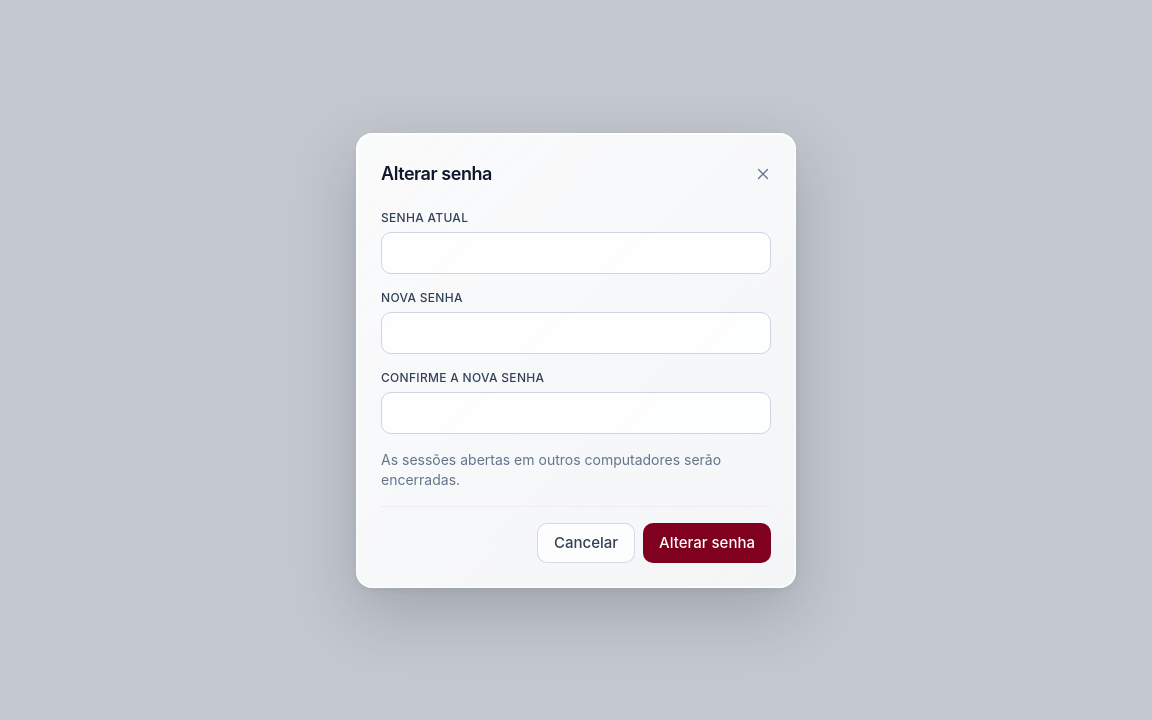
USU-07 — alterar senha logado › não envia com senhas diferentes
Type "senha-atual-1" into the password field labelled "Senha atual".
click(576, 252); type("senha-atual-1")  # box top-left (381, 232), bottom-right (771, 274)
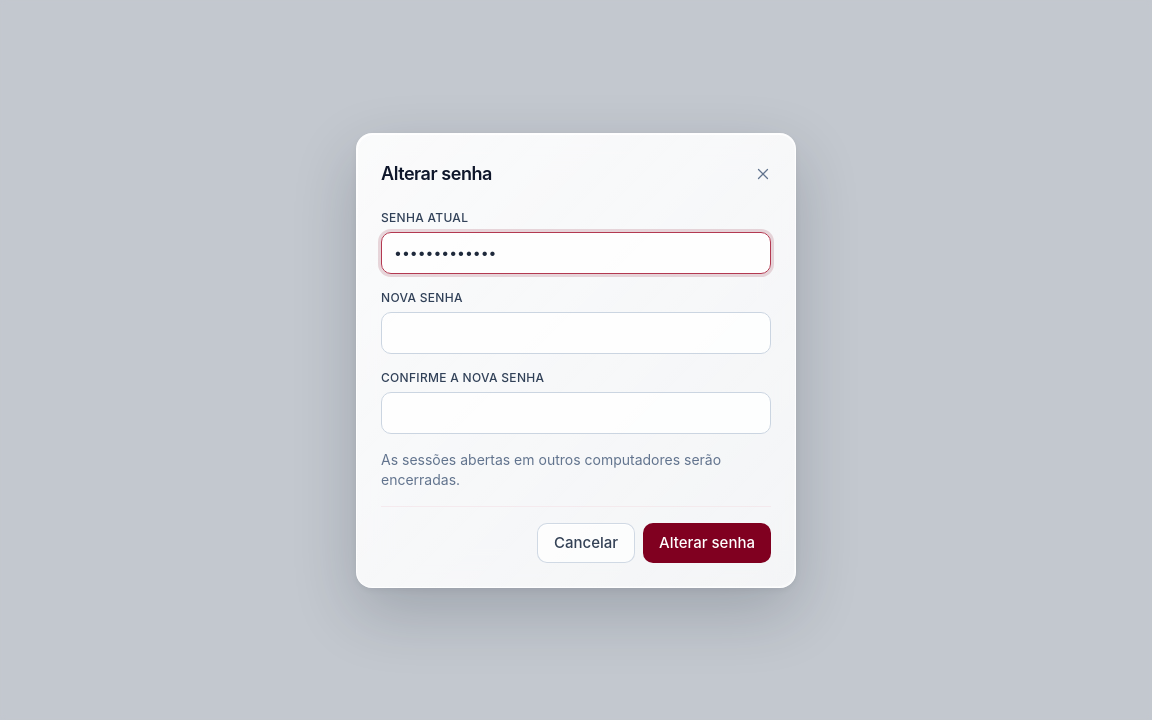
Type "senha-nova-123" into the password field labelled "Nova senha".
click(576, 332); type("senha-nova-123")  # box top-left (381, 312), bottom-right (771, 354)
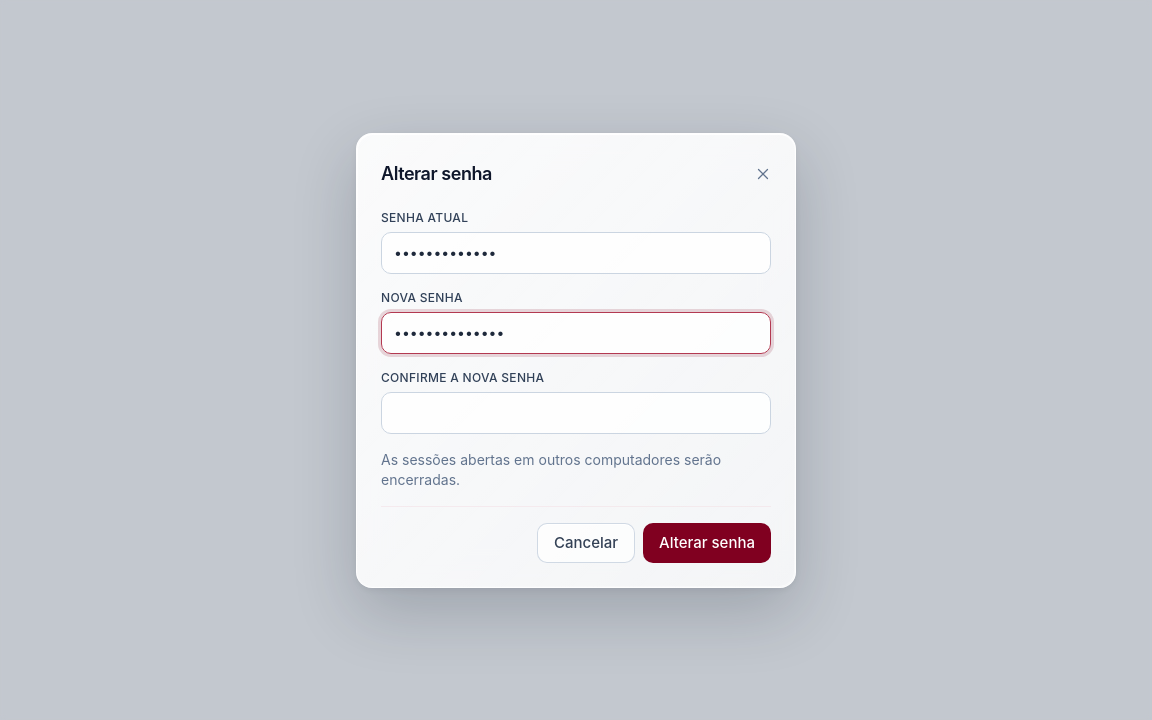
Type "outra-senha-123" into the password field labelled "Confirme a nova senha".
click(576, 412); type("outra-senha-123")  # box top-left (381, 392), bottom-right (771, 434)
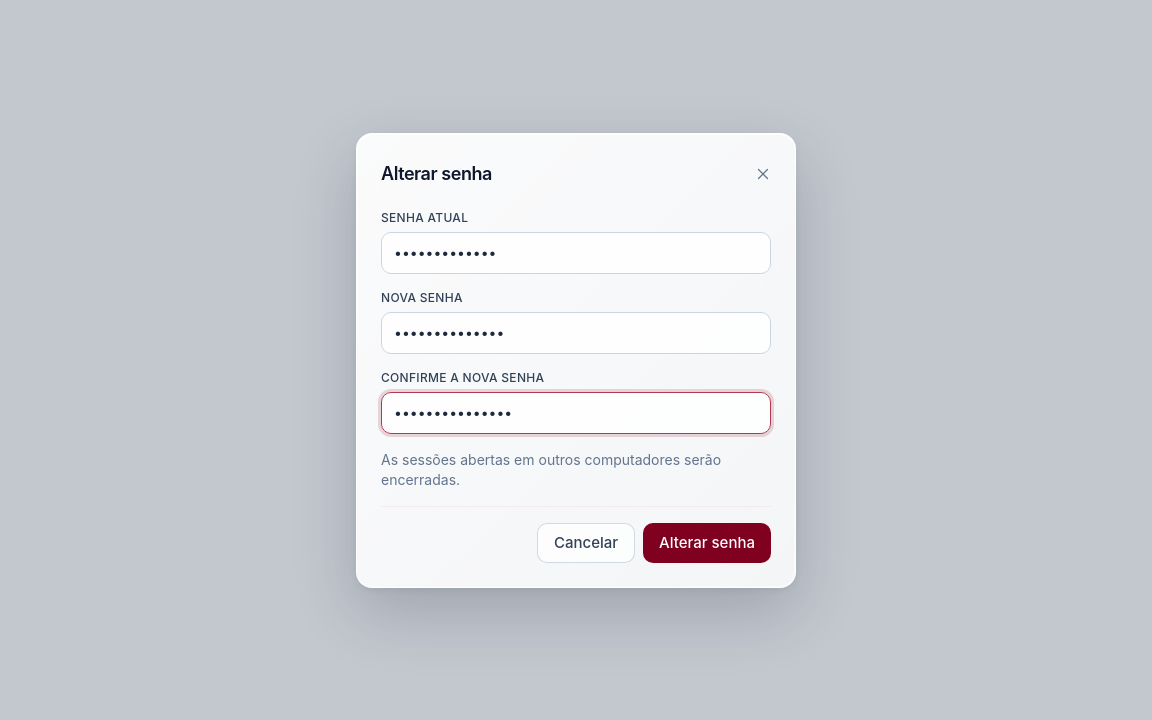
Click the button "Alterar senha".
click(707, 542)  # box top-left (643, 522), bottom-right (771, 562)
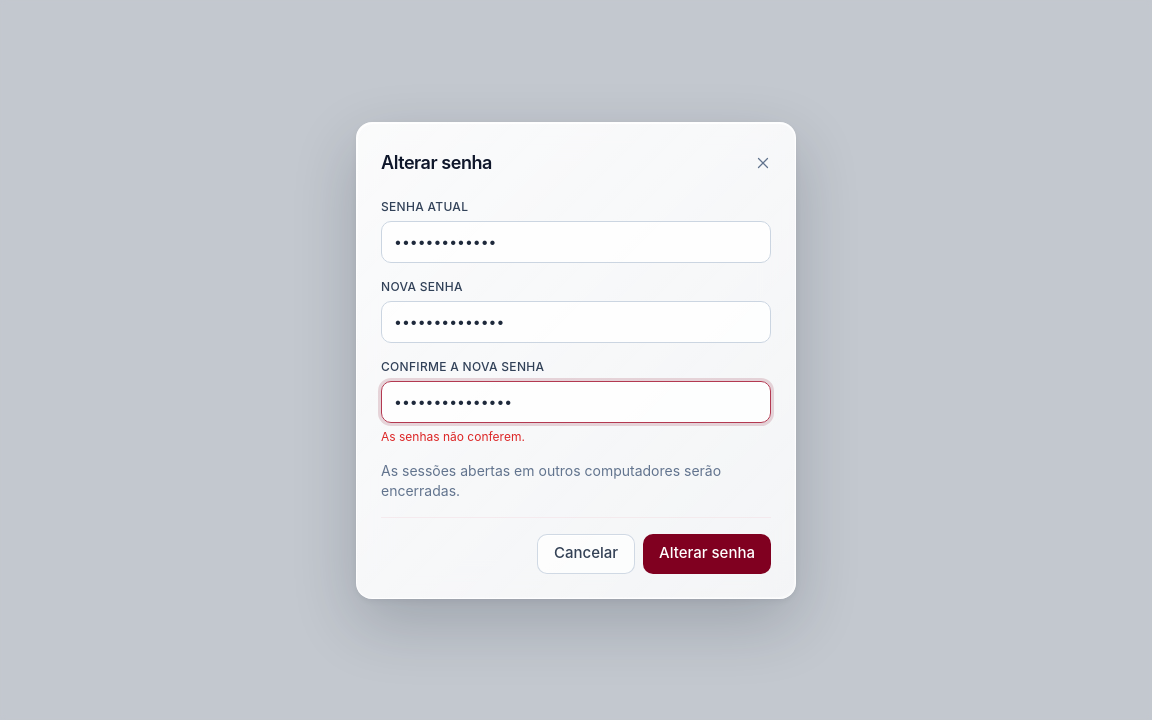
expect the text "As senhas não conferem." is shown: met, box top-left (381, 428), bottom-right (525, 444)
